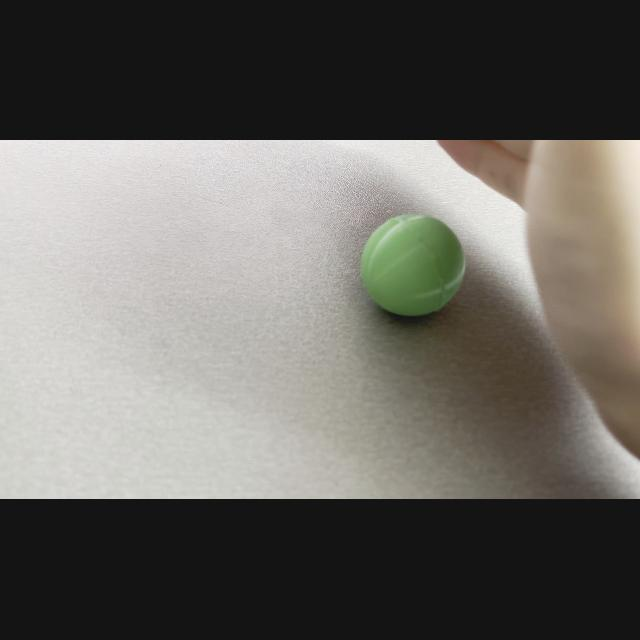objects: (346, 208, 472, 324)
